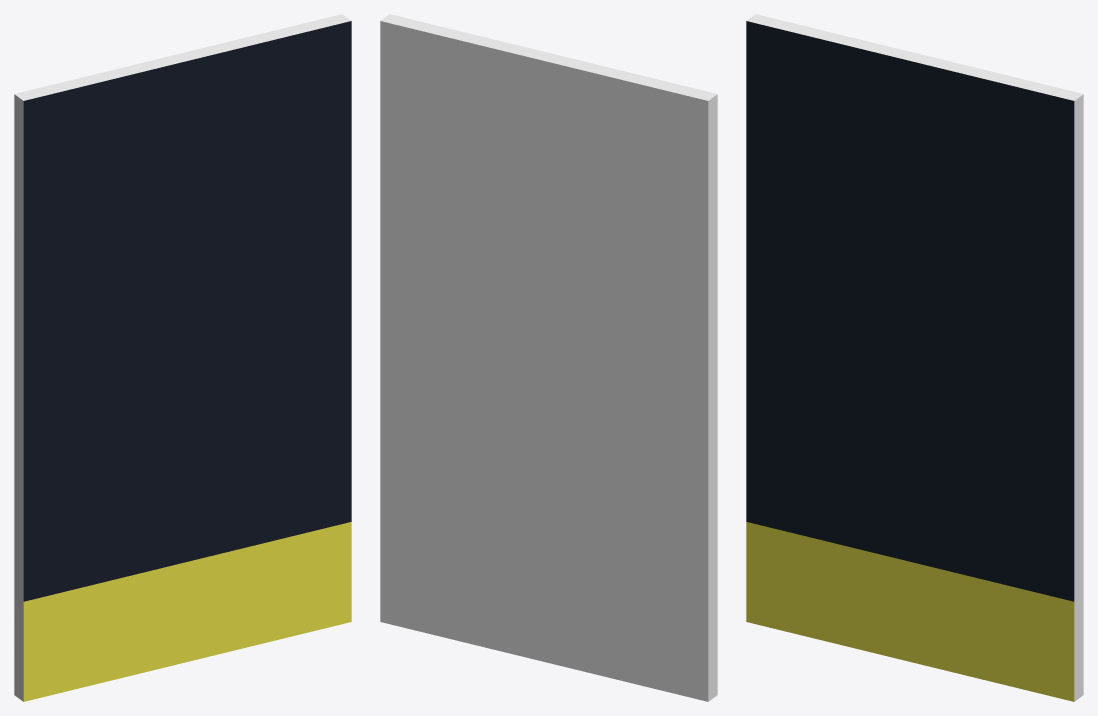
File: Prop_Wall_04.fbx
The picture shows the model from 3 angles, left to right: view 1: azimuth 30°, elevation 25°; view 2: azimuth 150°, elevation 25°; view 3: azimuth 330°, elevation 25°; orthographic projection.
Parts seen in each view (by area): view 1: Prop_Wall_04; view 2: Prop_Wall_04; view 3: Prop_Wall_04.
Part boxes in pixels (bbox=[...]): Prop_Wall_04: bbox=[14, 14, 351, 701]; Prop_Wall_04: bbox=[380, 14, 717, 701]; Prop_Wall_04: bbox=[746, 14, 1083, 701].
Size of the model in its own units: 200 by 350 by 10.
